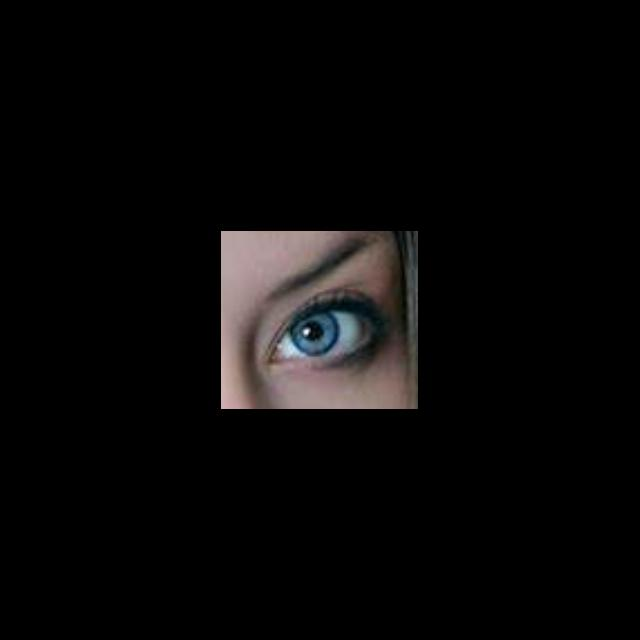eye: (282, 310, 364, 358)
iris: (292, 315, 337, 352)
